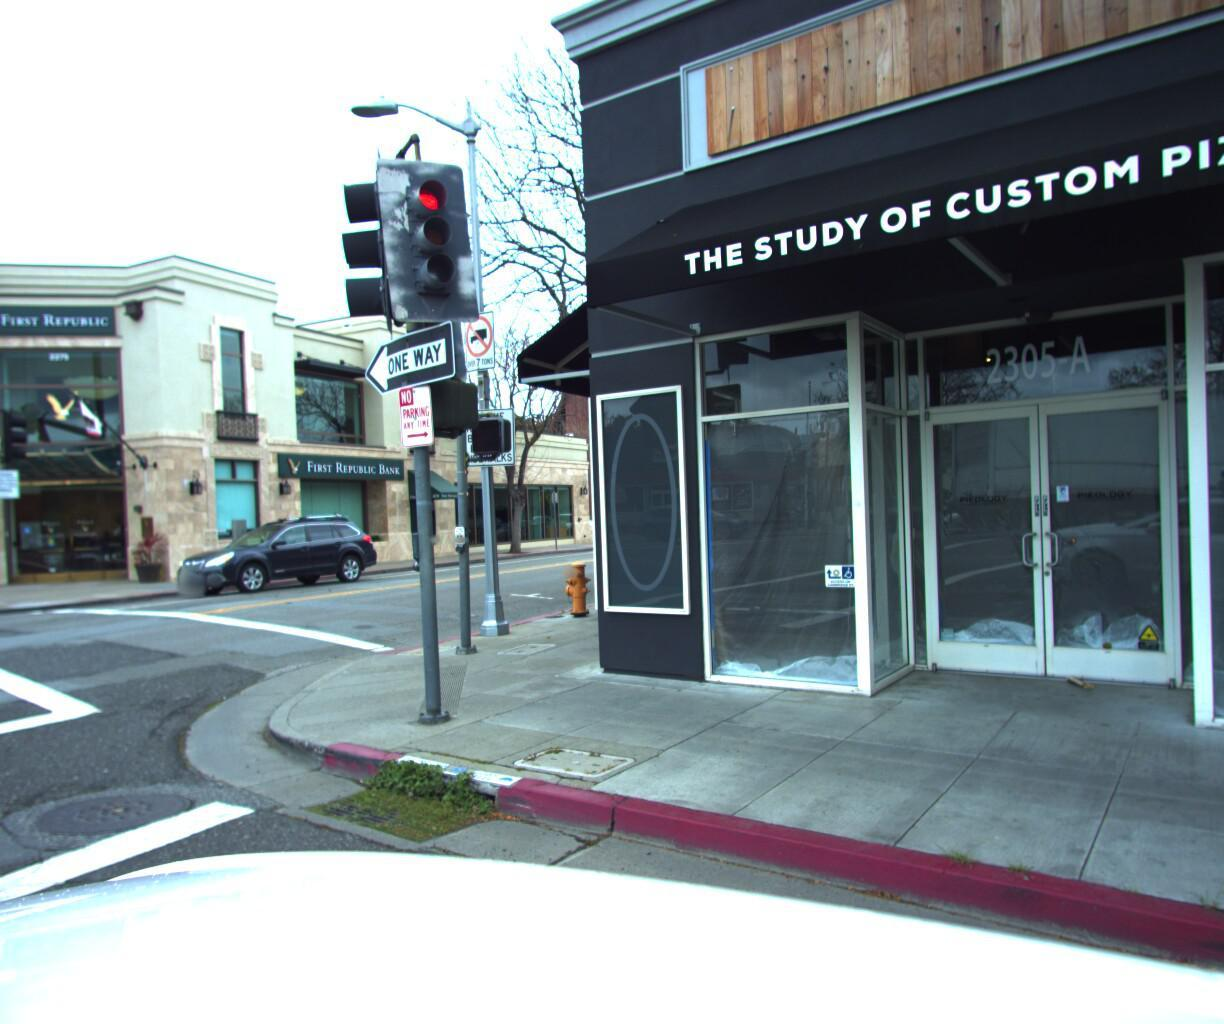car: (160, 515, 376, 600)
